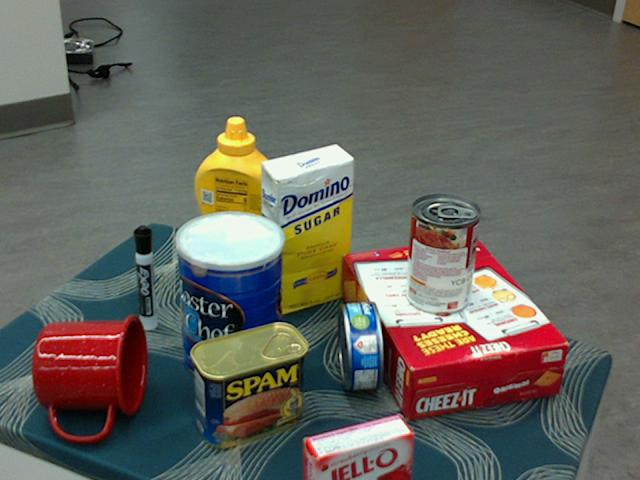cracker_box: (339, 239, 567, 416)
gelatin_box: (300, 414, 411, 479)
large_marker: (133, 224, 154, 330)
master_chef_can: (176, 211, 285, 386)
mug: (32, 314, 147, 440)
mustard_bottle: (193, 117, 280, 285)
potted_meat_can: (190, 322, 308, 447)
sugar_box: (260, 146, 354, 317)
tomato_soup_can: (404, 195, 480, 316)
tuna_fish_can: (338, 300, 383, 390)
